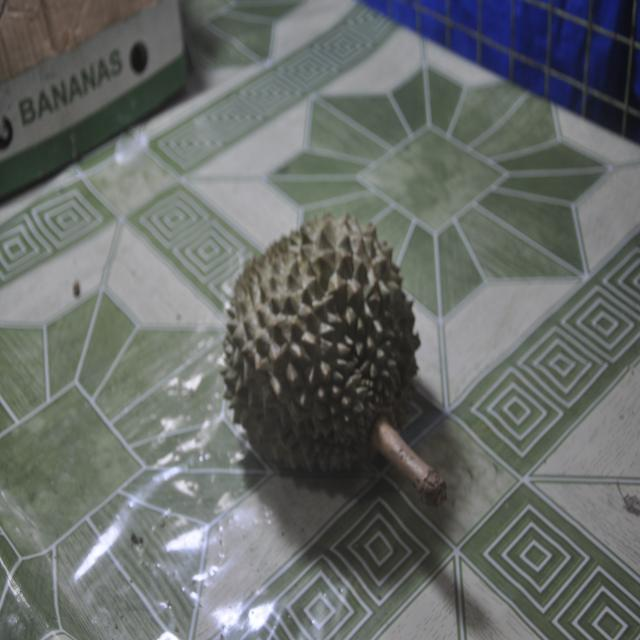mature: (224, 207, 458, 505)
